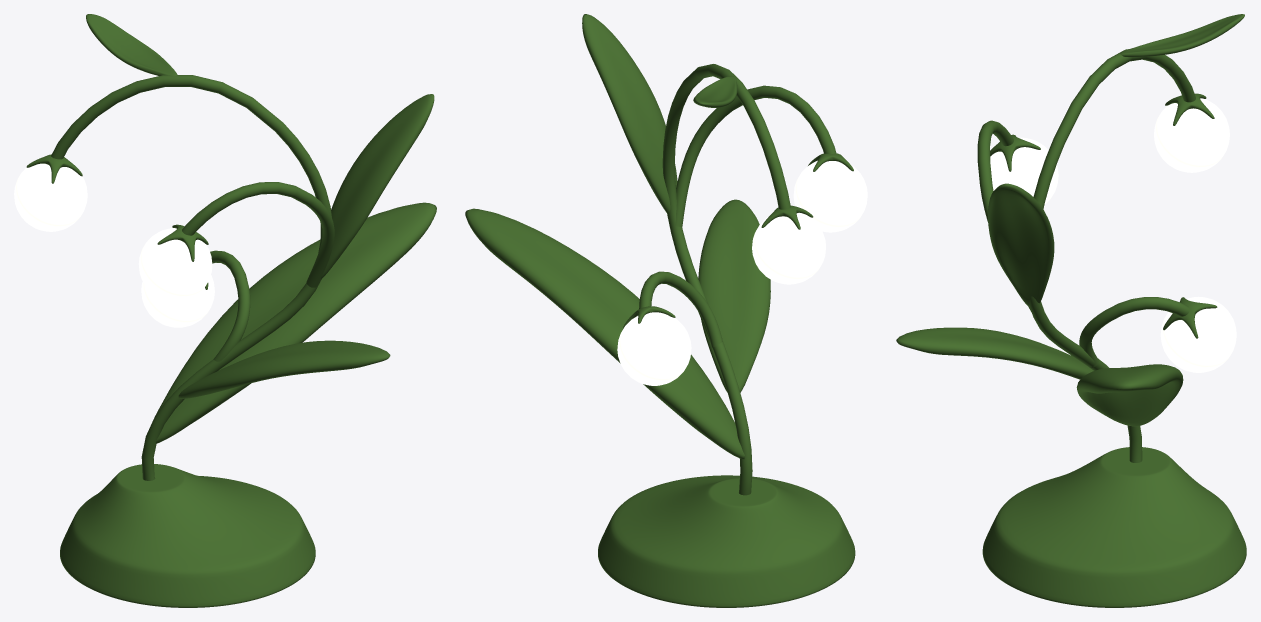
The model's file is lamp-transformed.glb.
3 renders of one model, left to right at view 1: azimuth 30°, elevation 25°; view 2: azimuth 150°, elevation 25°; view 3: azimuth 270°, elevation 25°, orthographic. The views are drawn at different scales.
Visible parts, largest first — view 1: Base_green_paint_0, bulb2_Lamp_0; view 2: Base_green_paint_0, bulb2_Lamp_0; view 3: Base_green_paint_0, bulb2_Lamp_0.
Part boxes in pixels (x1=…): Base_green_paint_0: x1=26, y1=14, x2=436, y2=607; bulb2_Lamp_0: x1=14, y1=163, x2=214, y2=327; Base_green_paint_0: x1=465, y1=14, x2=855, y2=607; bulb2_Lamp_0: x1=617, y1=160, x2=867, y2=385; Base_green_paint_0: x1=896, y1=14, x2=1246, y2=607; bulb2_Lamp_0: x1=990, y1=98, x2=1236, y2=372.
Size of the model in its own units: 0.2564 by 0.321 by 0.1962.
